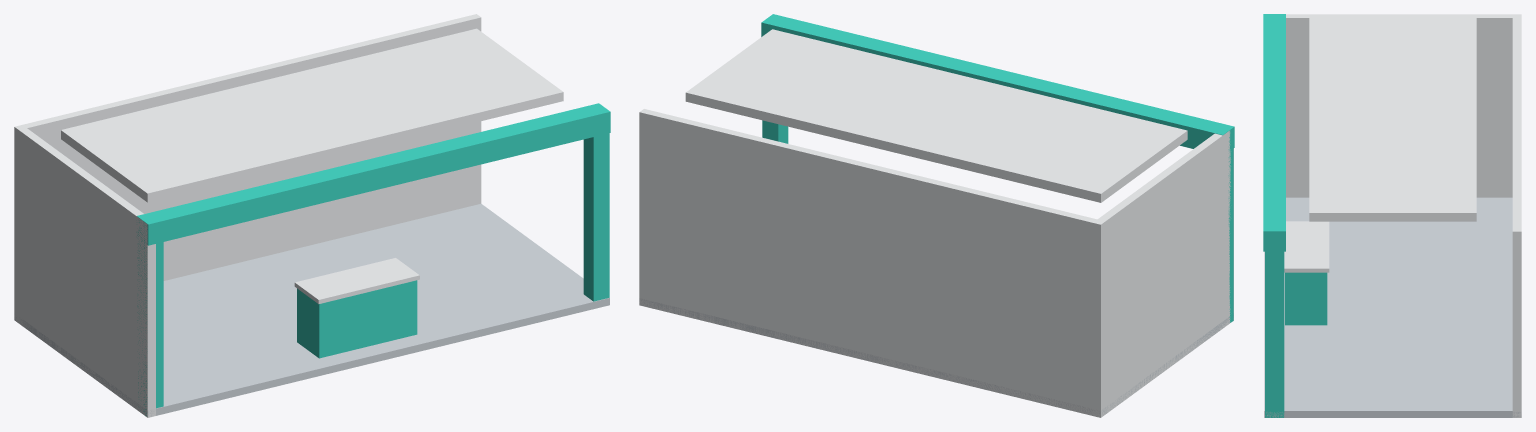
3 renders of one model, left to right at view 1: azimuth 30°, elevation 25°; view 2: azimuth 150°, elevation 25°; view 3: azimuth 270°, elevation 25°, orthographic. The views are drawn at different scales.
Visible parts, largest first — view 1: Exhibition Booth Concept; view 2: Exhibition Booth Concept; view 3: Exhibition Booth Concept.
Part boxes in pixels (left/top/right/bottom): Exhibition Booth Concept: left=14, top=14, right=610, bottom=417; Exhibition Booth Concept: left=639, top=14, right=1234, bottom=417; Exhibition Booth Concept: left=1263, top=14, right=1521, bottom=417.
Bounding box in the file's own units: 8 × 3.34 × 4.02.
